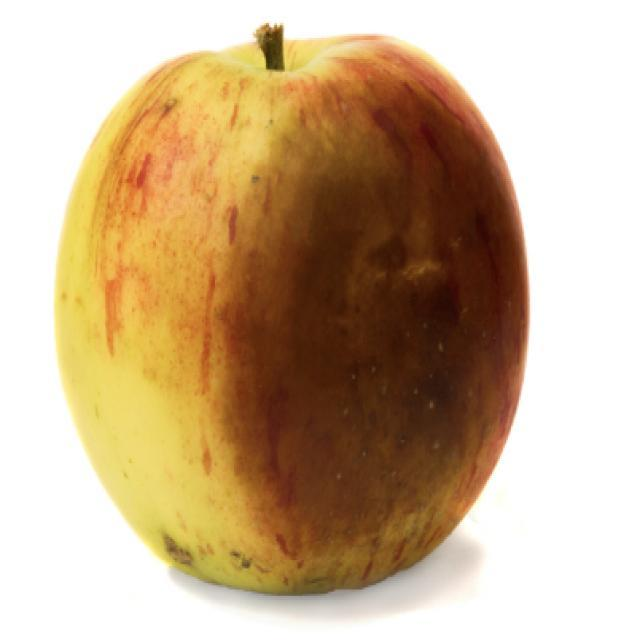Rotten: (60, 40, 548, 593)
